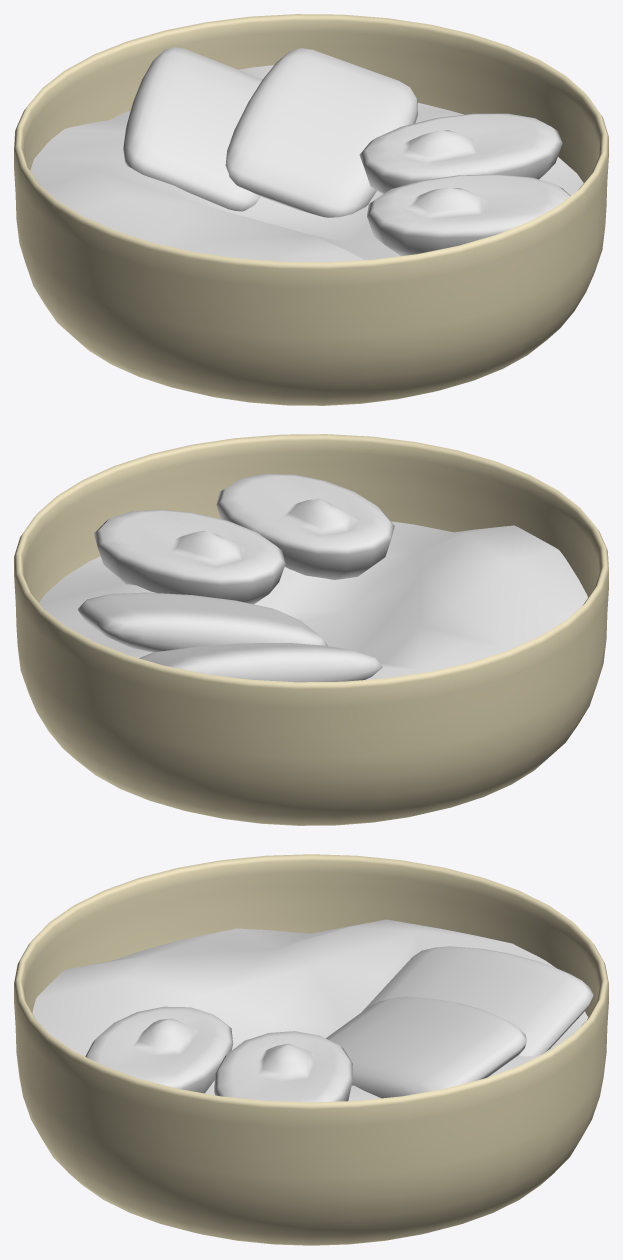
The model's file is noodles.fbx.
The picture shows the model from 3 angles, top to bottom: view 1: azimuth 30°, elevation 25°; view 2: azimuth 150°, elevation 25°; view 3: azimuth 270°, elevation 25°; orthographic projection.
Visible parts, largest first — view 1: revolvedSurface4, pDisc1, pCube3, pCube4, pCube1, pCube2; view 2: revolvedSurface4, pDisc1, pCube1, pCube2, pCube3, pCube4; view 3: revolvedSurface4, pDisc1, pCube3, pCube4, pCube2, pCube1.
Boxes of the visible parts, box(x1,y1,x2,y2) form: revolvedSurface4: box(14, 14, 608, 405); pDisc1: box(30, 65, 583, 262); pCube3: box(225, 48, 417, 217); pCube4: box(123, 47, 262, 211); pCube1: box(359, 113, 562, 194); pCube2: box(367, 174, 570, 255); revolvedSurface4: box(14, 434, 608, 825); pDisc1: box(39, 521, 587, 679); pCube1: box(94, 509, 285, 604); pCube2: box(216, 474, 394, 579); pCube3: box(78, 592, 327, 652); pCube4: box(139, 643, 382, 682); revolvedSurface4: box(14, 854, 608, 1245); pDisc1: box(32, 919, 588, 1100); pCube3: box(326, 996, 526, 1098); pCube4: box(361, 946, 593, 1056); pCube2: box(85, 1006, 233, 1093); pCube1: box(214, 1031, 352, 1102).
Bounding box in the file's own units: 1.49 × 0.5548 × 1.49.
